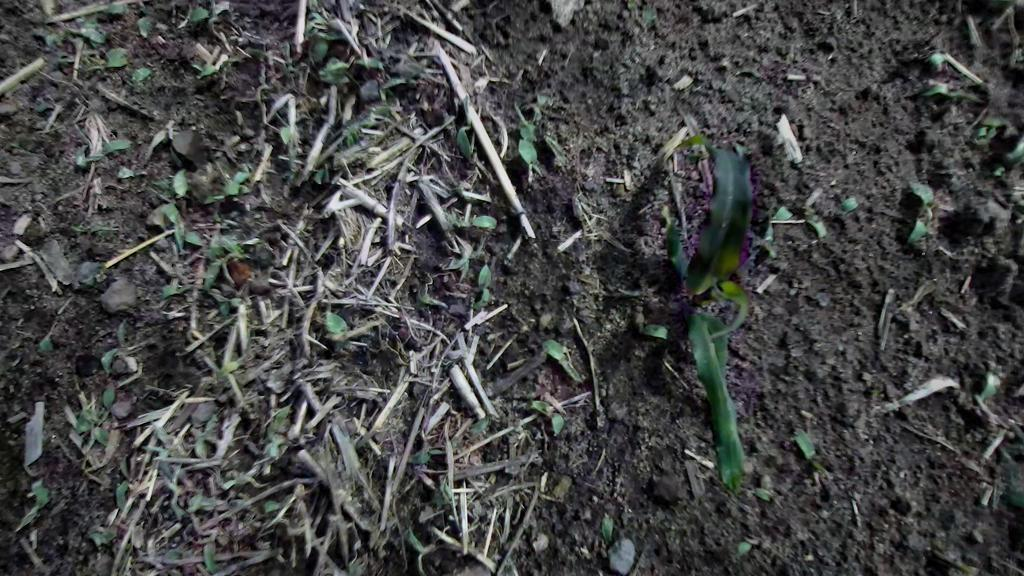BroWeed: (332, 488, 393, 549), (10, 473, 58, 539), (95, 314, 143, 379), (539, 332, 593, 386), (389, 525, 444, 576), (789, 426, 835, 486), (82, 424, 127, 483), (137, 116, 183, 162), (526, 391, 570, 438), (441, 233, 480, 286), (921, 78, 985, 110), (148, 417, 191, 464), (141, 435, 182, 482), (325, 315, 383, 347), (159, 200, 194, 253), (178, 511, 221, 552), (162, 144, 193, 199), (264, 397, 300, 444), (81, 134, 132, 165), (980, 107, 1022, 144), (902, 206, 938, 249), (163, 463, 189, 522), (111, 453, 136, 512), (977, 359, 1009, 405), (244, 41, 276, 86), (222, 466, 270, 496), (228, 507, 264, 547), (509, 99, 539, 146), (200, 179, 250, 207), (798, 200, 831, 242), (72, 11, 108, 49), (515, 134, 544, 181), (926, 547, 971, 576), (908, 175, 939, 217), (448, 208, 498, 234), (216, 245, 249, 283), (194, 538, 227, 576), (454, 96, 473, 161), (405, 441, 446, 470), (95, 380, 119, 429), (87, 42, 130, 69), (88, 518, 123, 551), (750, 483, 789, 512), (63, 20, 107, 45), (755, 213, 778, 260), (224, 162, 253, 198), (414, 285, 450, 314), (69, 404, 102, 435), (425, 474, 454, 509), (543, 131, 568, 171), (728, 531, 760, 562), (317, 308, 349, 339), (201, 248, 223, 293), (153, 519, 185, 549), (296, 9, 328, 39), (473, 262, 493, 310), (67, 217, 117, 236), (354, 51, 390, 77), (470, 233, 499, 265), (316, 66, 352, 91), (260, 430, 288, 462), (205, 286, 242, 310), (284, 481, 308, 518), (344, 550, 378, 576), (972, 127, 1002, 156), (305, 35, 331, 68), (30, 29, 67, 52), (184, 483, 209, 516), (158, 279, 197, 300), (73, 122, 90, 170), (549, 471, 575, 502), (277, 38, 300, 73), (188, 423, 209, 460), (189, 54, 217, 81), (671, 68, 699, 95), (171, 467, 197, 496), (262, 492, 296, 514), (150, 174, 176, 202), (275, 111, 295, 147), (180, 226, 207, 252), (132, 12, 157, 40), (381, 76, 427, 91), (1004, 131, 1024, 165), (221, 49, 248, 74), (86, 56, 128, 72), (222, 510, 246, 538), (87, 425, 111, 452), (225, 491, 252, 515), (755, 471, 782, 495), (468, 414, 495, 438), (522, 98, 545, 126), (637, 321, 669, 341), (216, 233, 246, 254), (618, 283, 660, 298), (364, 103, 401, 120), (212, 475, 237, 499), (332, 335, 356, 360), (204, 231, 225, 259), (208, 50, 232, 74), (209, 523, 232, 548), (205, 464, 226, 491), (771, 205, 794, 228), (214, 359, 240, 379), (324, 56, 354, 73), (130, 63, 152, 86), (452, 175, 474, 198), (149, 490, 169, 515), (201, 474, 221, 499), (531, 90, 556, 110), (310, 165, 332, 187), (203, 413, 219, 443), (642, 0, 659, 28), (52, 47, 73, 69), (838, 194, 860, 215), (35, 333, 55, 356), (1007, 484, 1024, 510), (252, 81, 272, 103), (116, 165, 147, 179), (600, 512, 613, 545), (131, 520, 146, 548), (103, 1, 130, 16), (295, 428, 315, 448), (90, 171, 105, 197), (345, 121, 364, 141), (574, 272, 598, 287), (163, 548, 192, 560), (967, 125, 990, 140), (313, 30, 344, 41), (735, 65, 762, 77), (217, 283, 238, 298), (31, 100, 53, 114), (378, 77, 389, 105), (990, 160, 1007, 178), (930, 52, 946, 71), (145, 534, 158, 557), (222, 489, 239, 506), (236, 237, 265, 246), (202, 495, 225, 506), (930, 538, 948, 552), (201, 503, 228, 512), (279, 63, 293, 79), (218, 300, 231, 317), (1011, 382, 1024, 399), (356, 119, 377, 129), (178, 439, 194, 452), (103, 30, 113, 50), (964, 565, 981, 576), (267, 405, 281, 418), (634, 313, 644, 330), (280, 167, 295, 178), (162, 507, 174, 520), (346, 133, 355, 148), (868, 388, 880, 397), (168, 568, 181, 576), (672, 217, 678, 225)
Maize: (662, 135, 752, 493)
